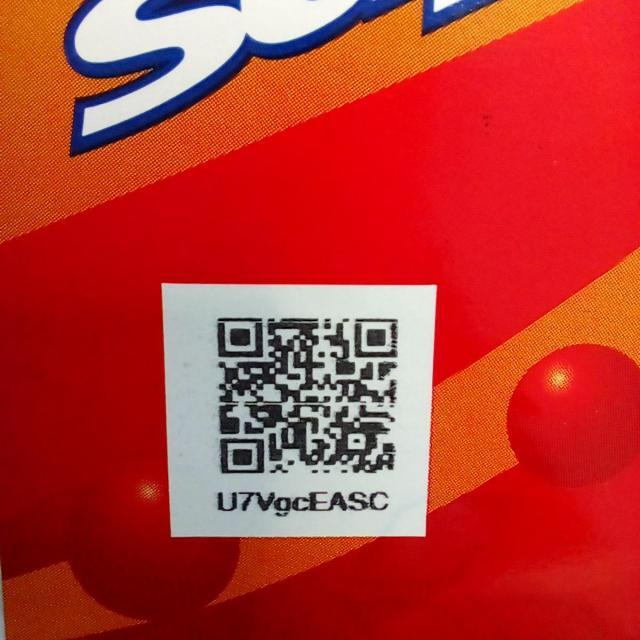QRCode: (208, 304, 413, 492)
